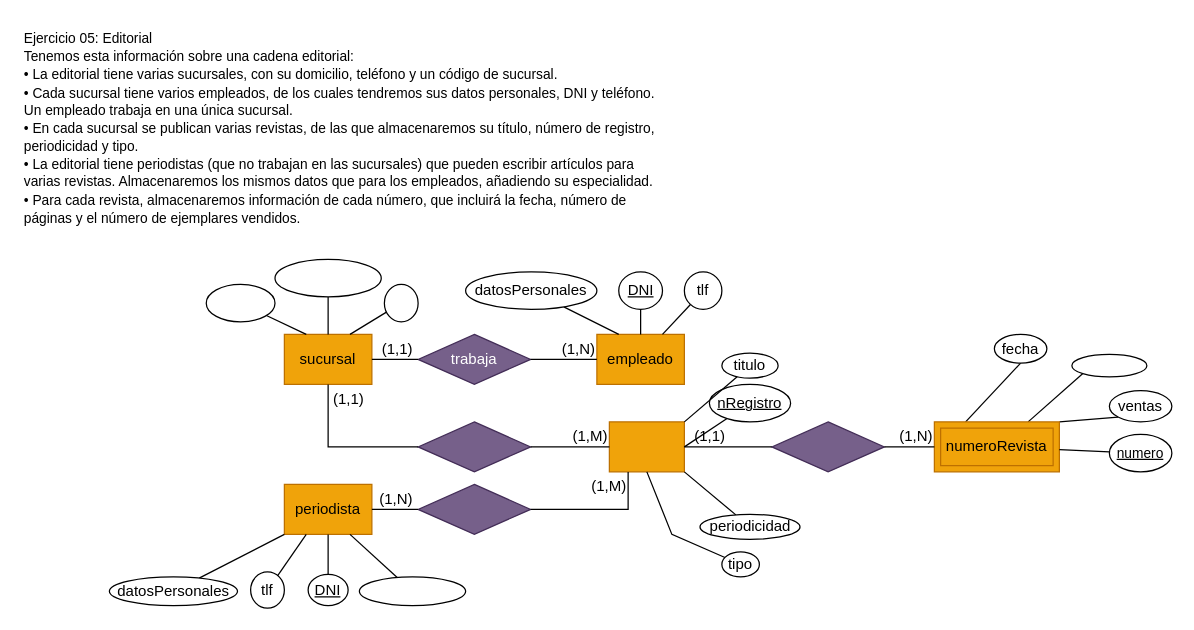
Image size: 1194x630. Some labels were removed from this diagram. Here are the shapes that lost their labels. From the top down, the centre of each, then its label:
At (327,277): "codSucursal".
At (240,302): "domicilio".
At (400,302): "telf".
At (1109,365): "paginas".
At (474,446): "publica".
At (646,446): "revista".
At (827,446): "incluye".
At (474,508): "escribe".
At (412,591): "especialidad".
